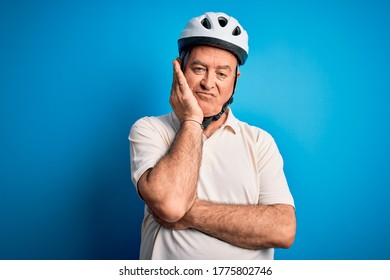helmet: (177, 12, 249, 122)
